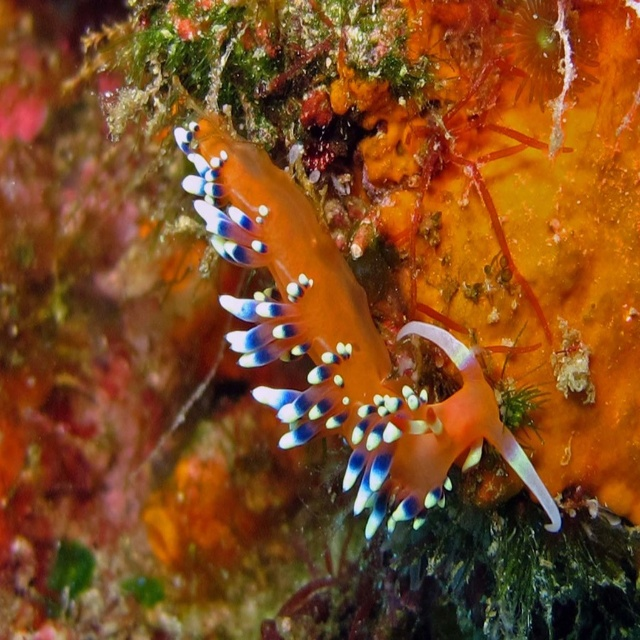Fish: (173, 114, 563, 539)
